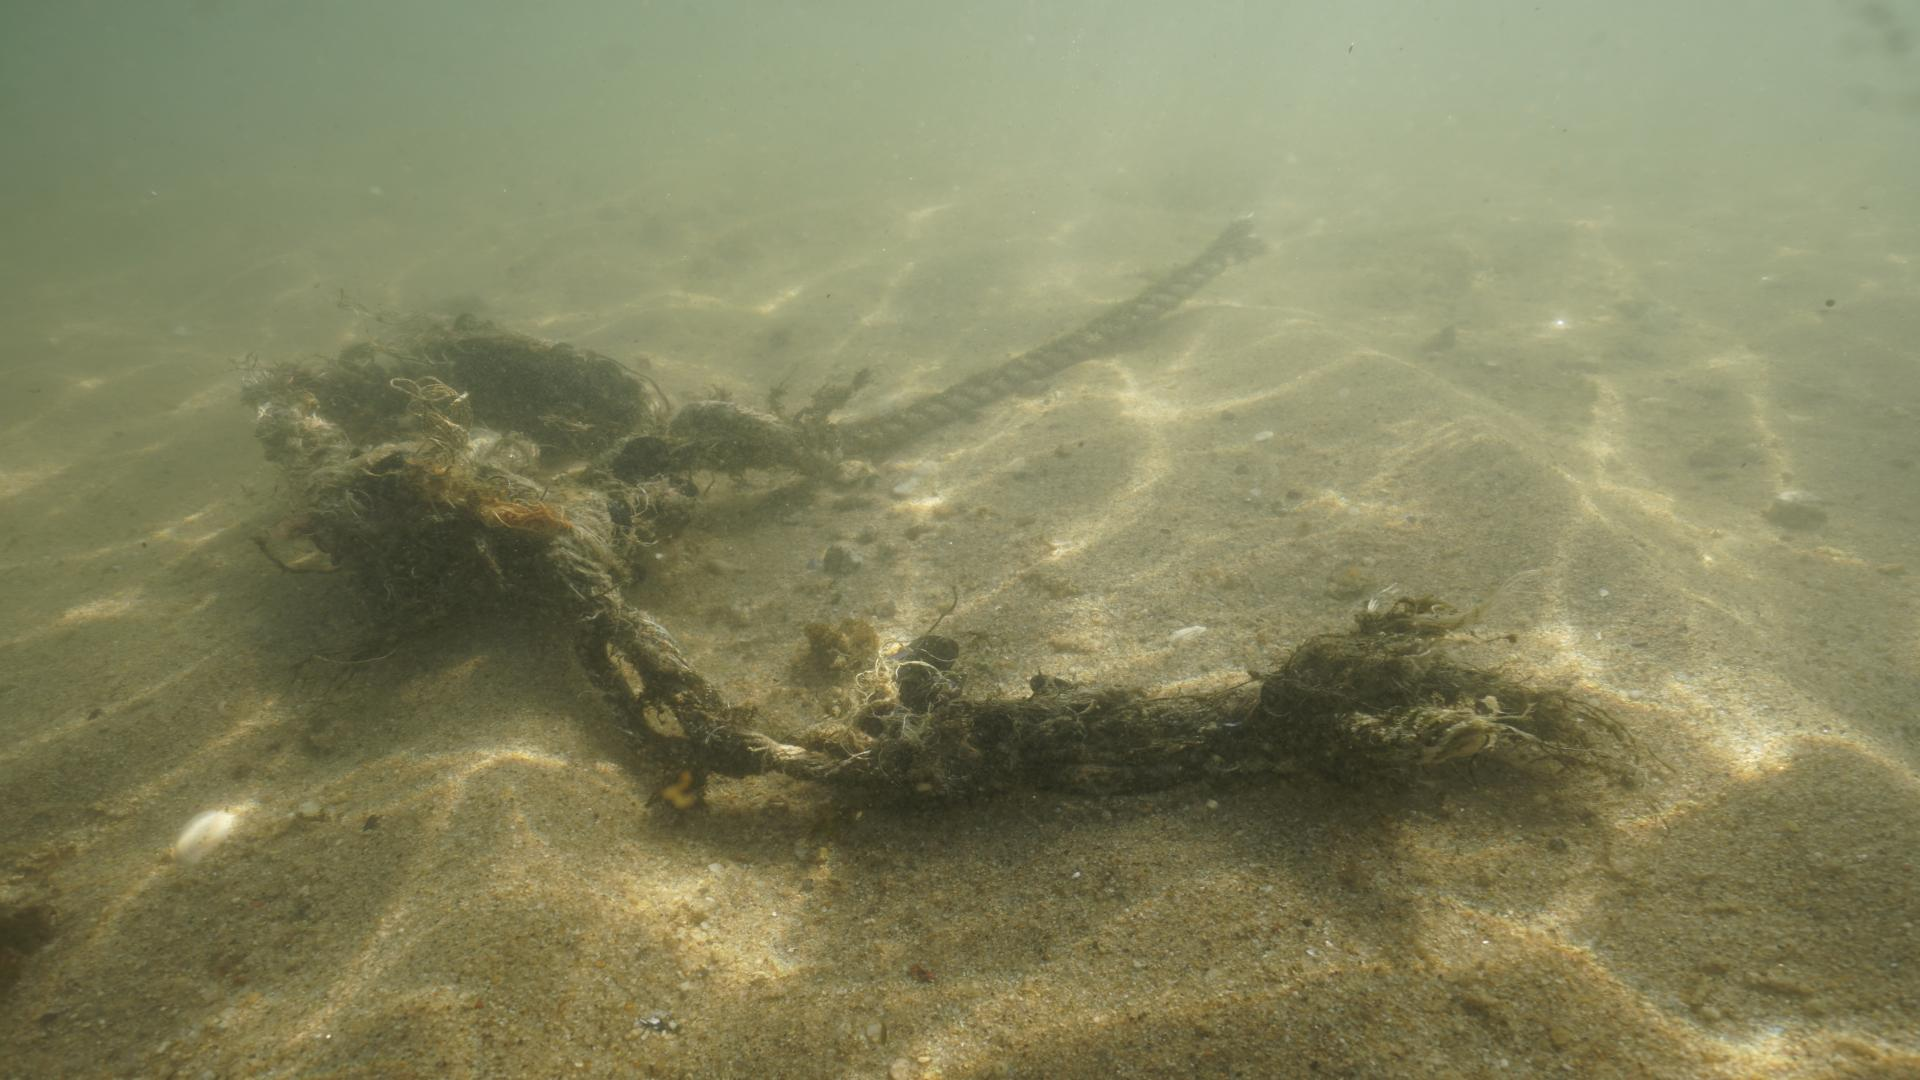rope: (829, 233, 1259, 450)
